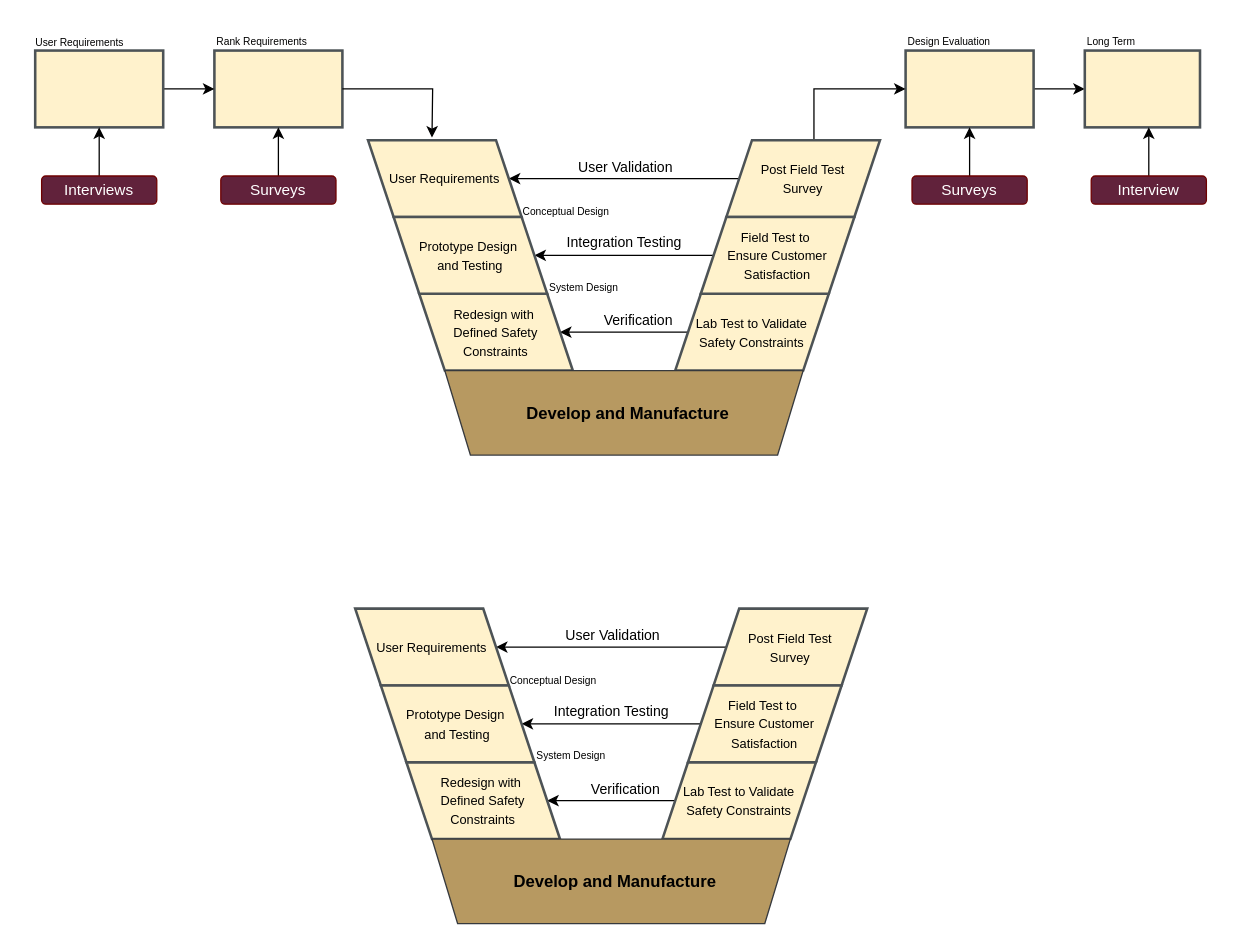
Image size: 1234x946. Some labels were removed from this diagram. The centre of each missing label's shape, as x and y in pixels:
"Cooking Space Heating Safety" belongs at (x=98, y=88).
"Draw Conclusions" belongs at (x=969, y=88).
"Space Heating" belongs at (x=277, y=88).
"What can we improve on more?" belongs at (x=1142, y=88).
